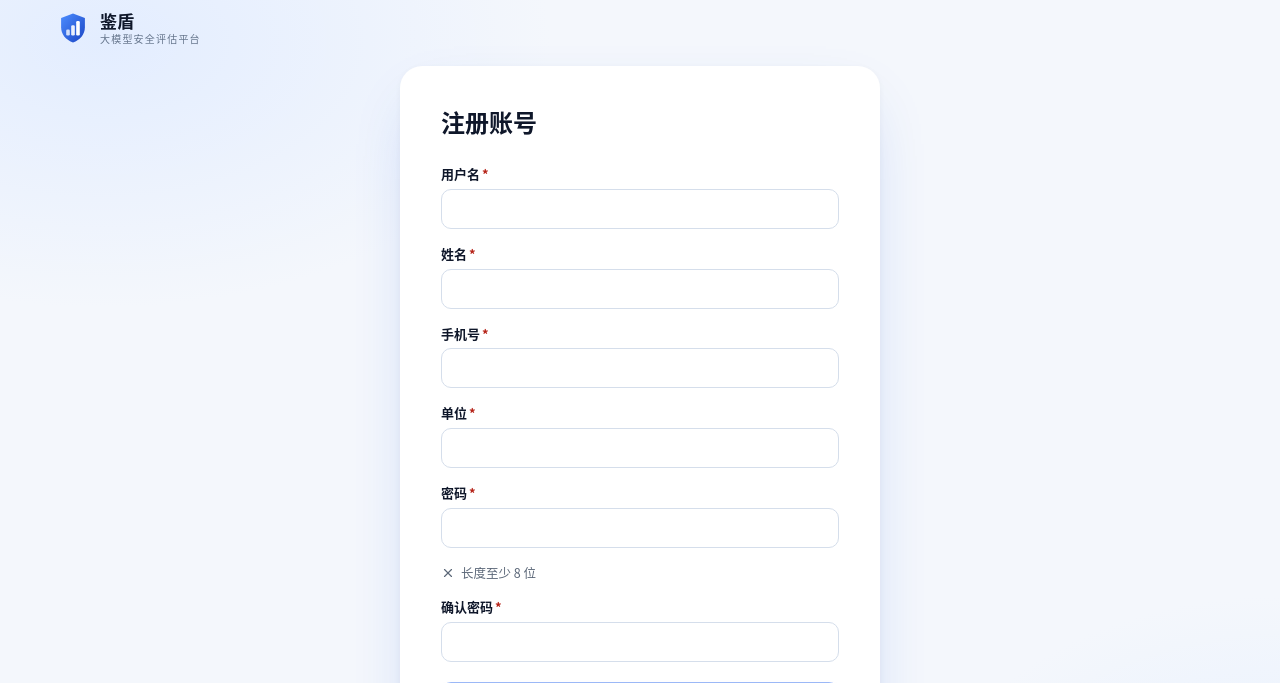
RegisterPage › 提交成功后显示等待审核
Type "zhangsan" into the field labelled "用户名*". click: (640, 209)
box: [441,189,839,229]
Type "张三" into the field labelled "姓名*". click: (640, 288)
box: [441,268,839,308]
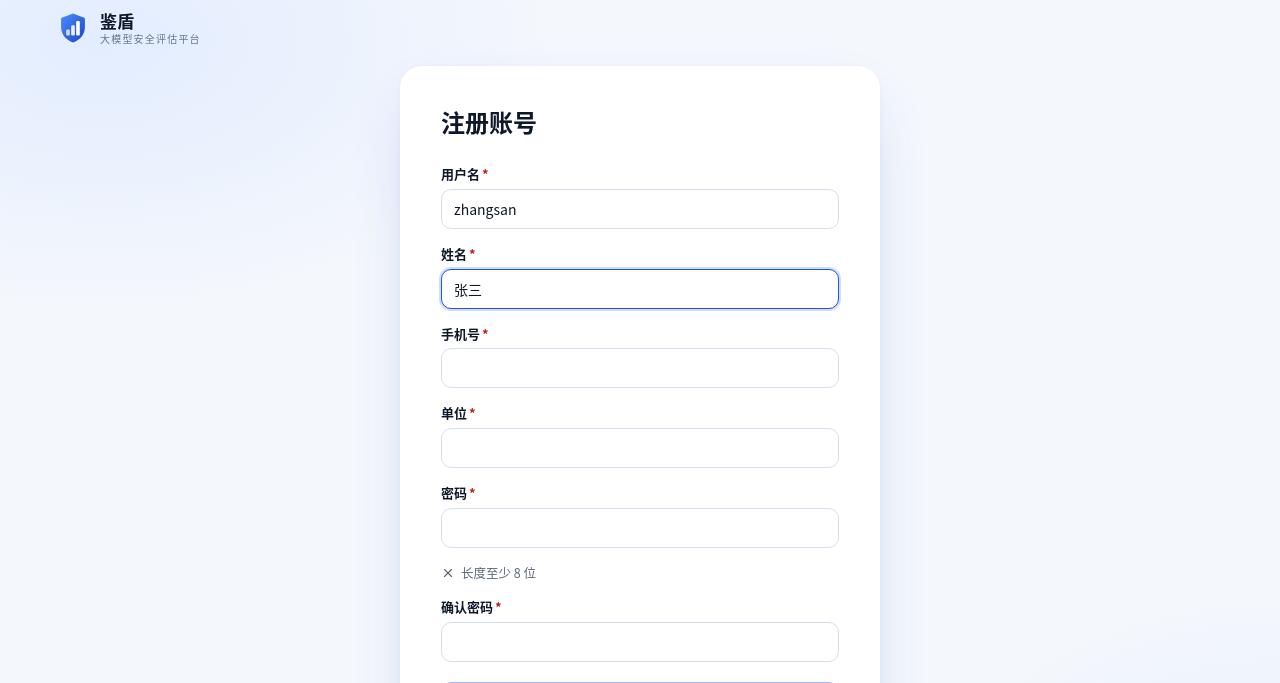
Type "13800138000" into the field labelled "手机号*". click: (640, 368)
box: [441,348,839,388]
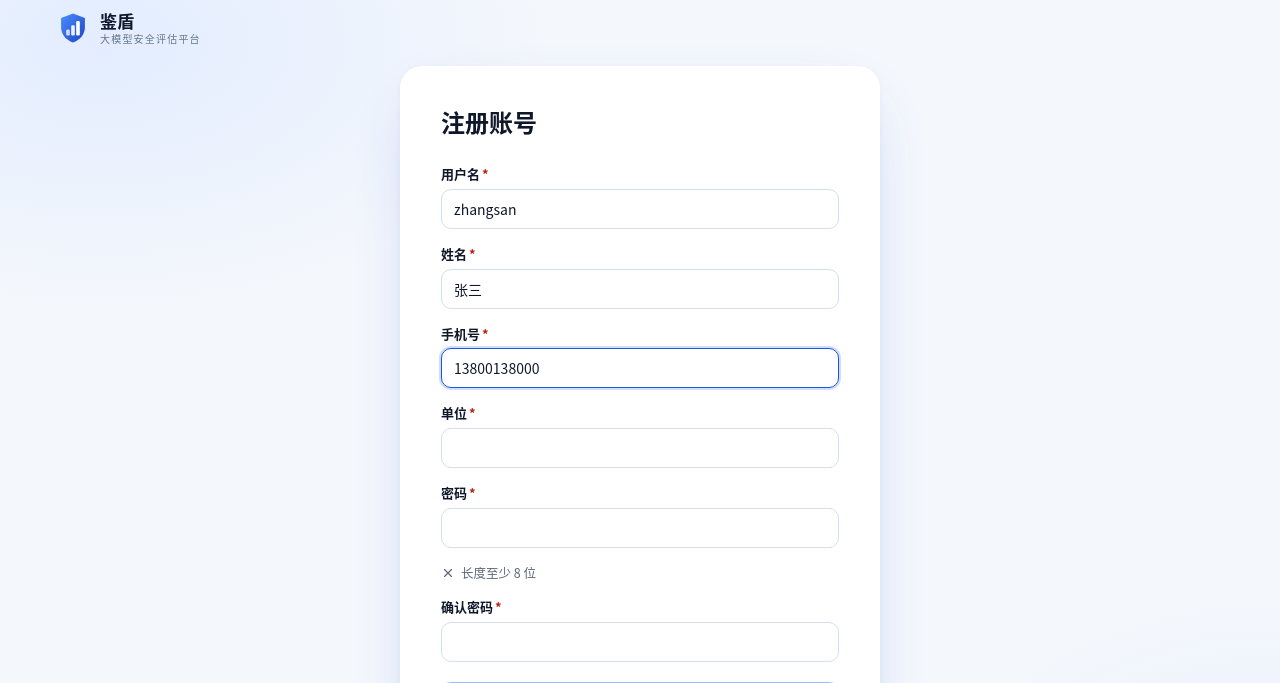
Type "测试单位" into the field labelled "单位*". click: (640, 448)
box: [441,428,839,468]
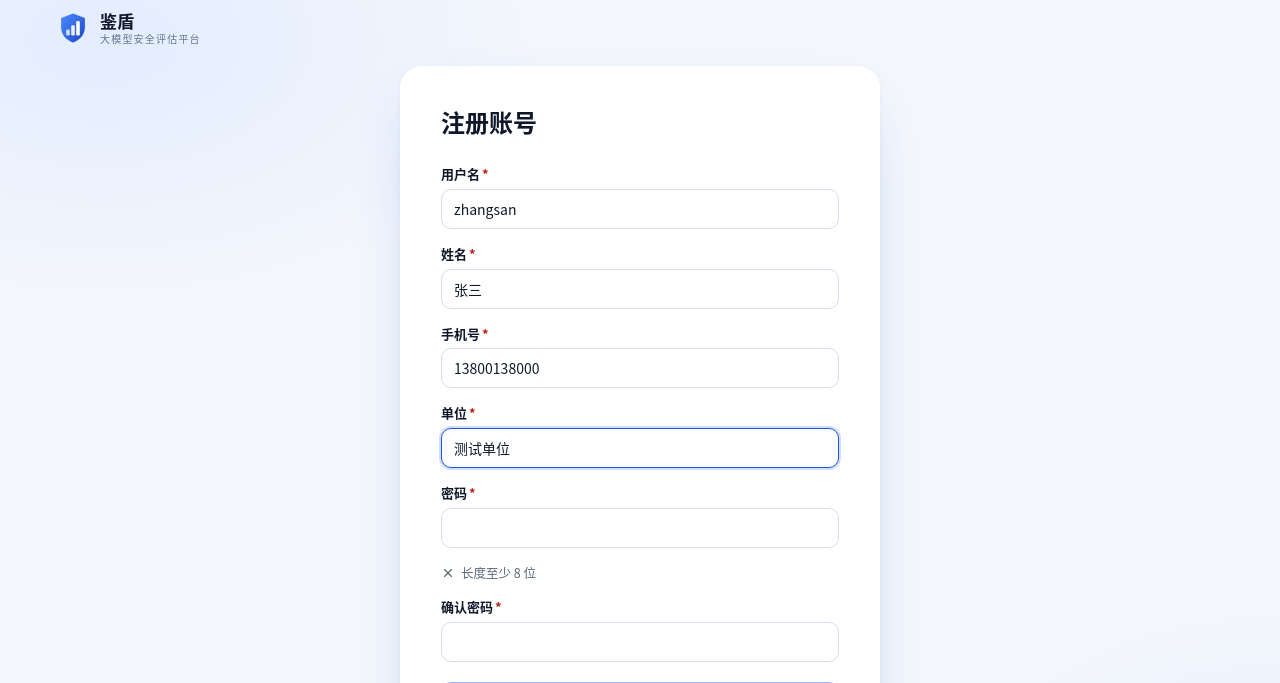
Type "Register@123" into the password field labelled "密码*". click: (640, 528)
box: [441,508,839,548]
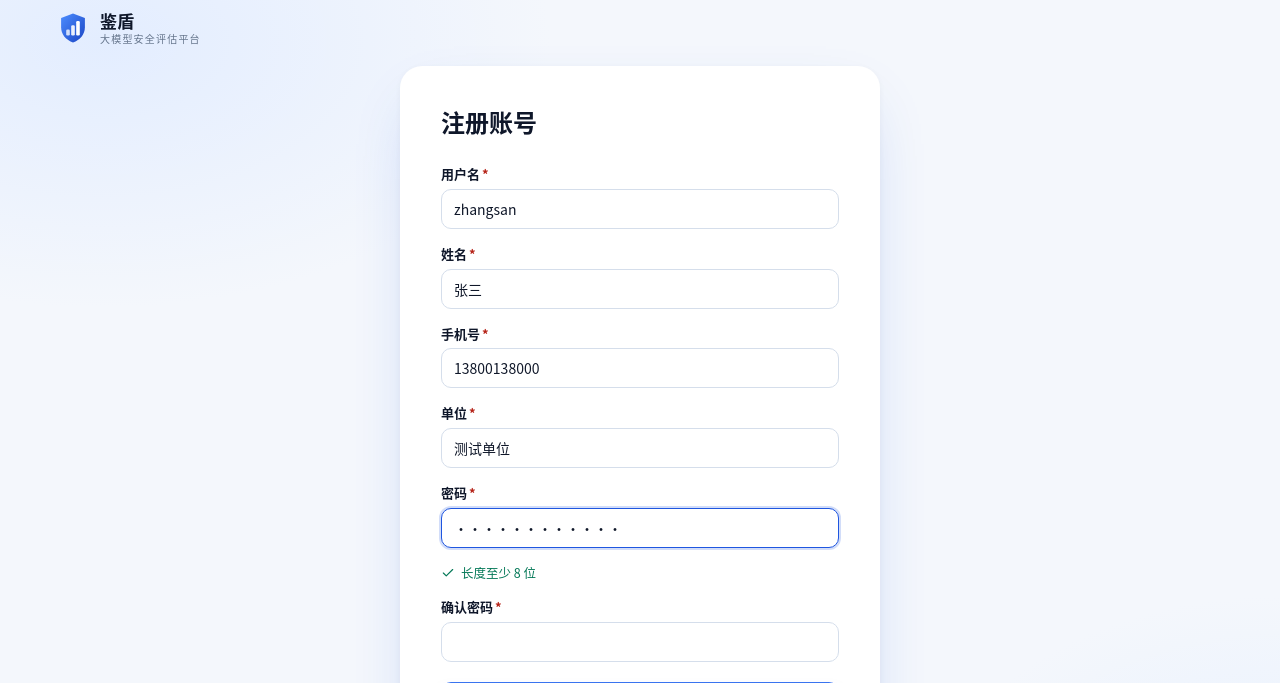
Type "Register@123" into the password field labelled "确认密码*". click: (640, 642)
box: [441,622,839,662]
(page scrolled)
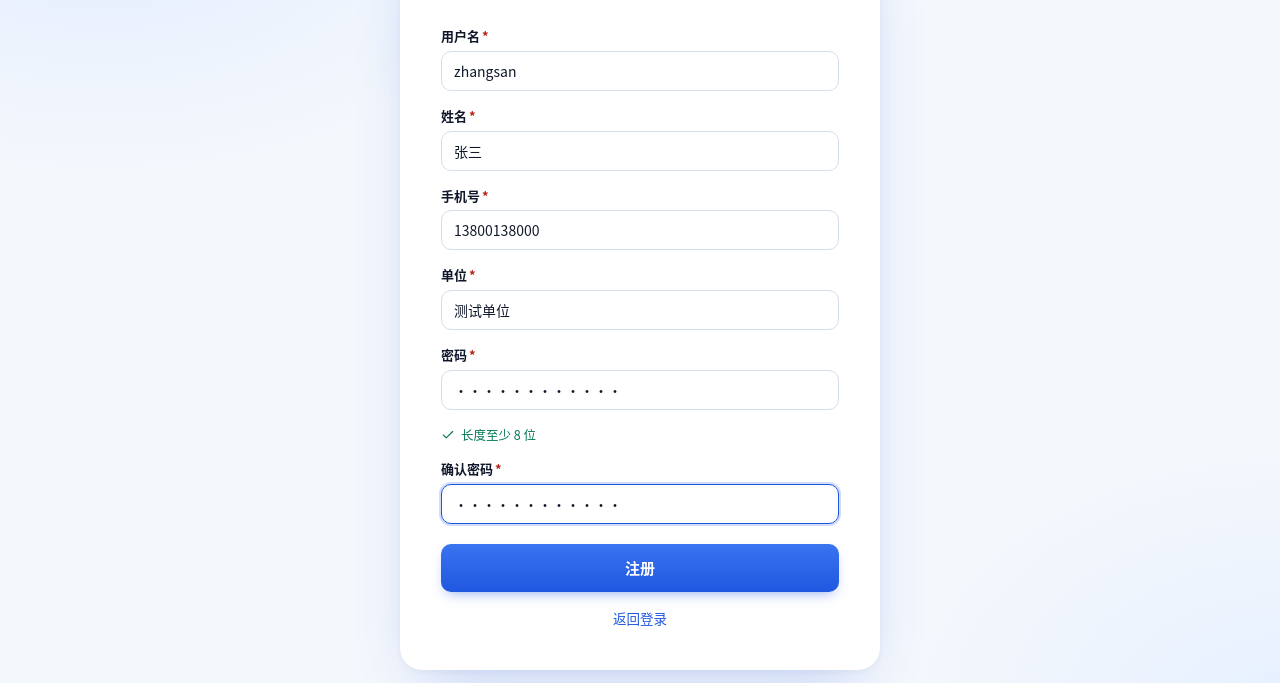
Click the button "注册". click: (640, 568)
box: [441,544,839,592]
(page scrolled)
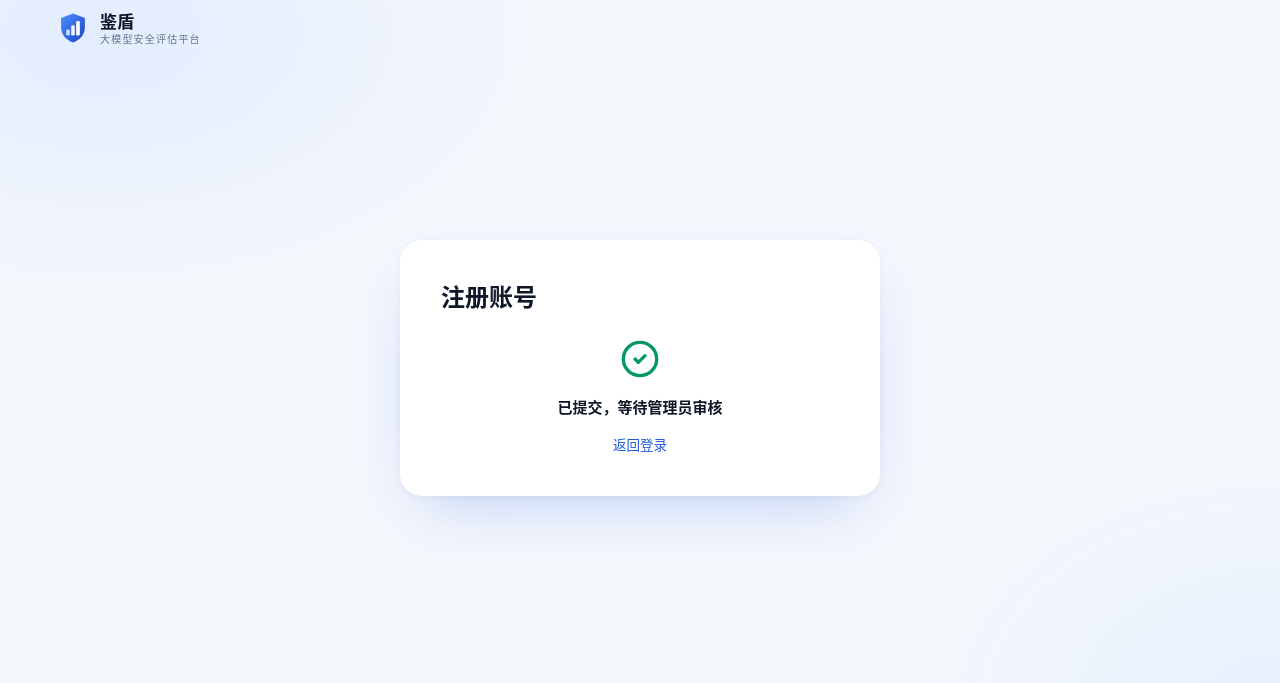
expect the text "已提交，等待管理员审核" is shown: met, box [558,395,722,418]
